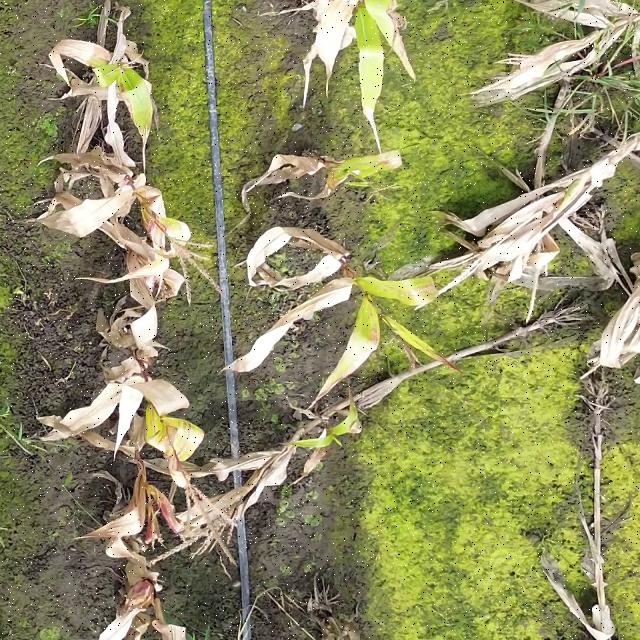northern-leaf-blight: (345, 273, 454, 384), (327, 146, 421, 204), (114, 61, 164, 158)
